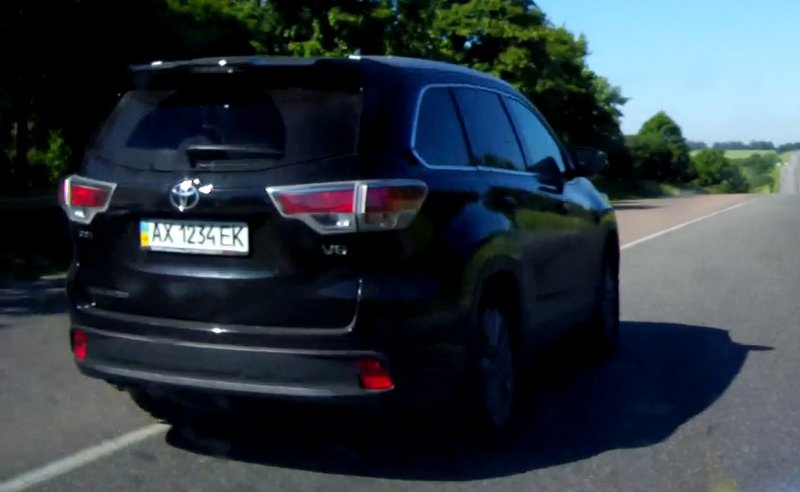car: (56, 57, 621, 407)
plate: (137, 217, 251, 253)
